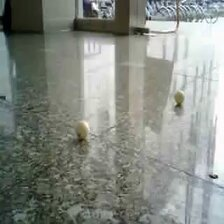w: (75, 120, 90, 139), (173, 89, 185, 105)
